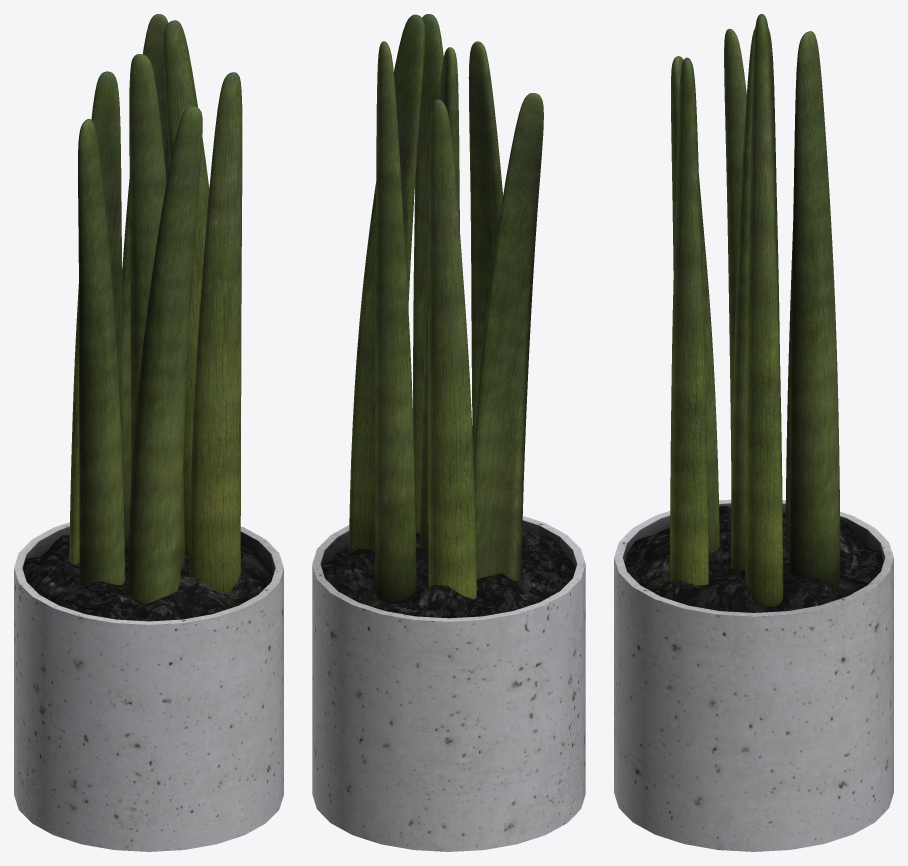
The model's file is Sansewieria_2k.DAE.
3 renders of one model, left to right at view 1: azimuth 30°, elevation 25°; view 2: azimuth 150°, elevation 25°; view 3: azimuth 270°, elevation 25°, orthographic. The views are drawn at different scales.
Visible parts, largest first — view 1: Sansewieria; view 2: Sansewieria; view 3: Sansewieria.
Part boxes in pixels (x1,y1,x2,y2): Sansewieria: (14,14,283,851); Sansewieria: (312,14,585,851); Sansewieria: (614,14,893,851).
Bounding box in the file's own units: 13.91 × 43.48 × 13.91.
1 material, 1 textured.
